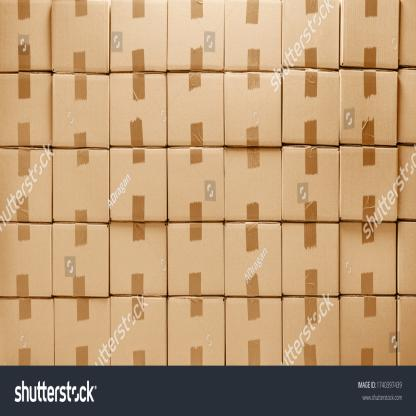box: (340, 68, 398, 145), (53, 146, 110, 224), (52, 222, 110, 298), (282, 146, 340, 222), (52, 73, 109, 149), (341, 146, 398, 222), (340, 220, 397, 296), (109, 0, 167, 74), (168, 222, 226, 296), (52, 0, 110, 73), (168, 146, 226, 219), (224, 73, 282, 146), (110, 147, 167, 221), (225, 146, 282, 220), (282, 71, 339, 145), (282, 222, 338, 297), (226, 223, 283, 296), (110, 221, 166, 295), (168, 73, 224, 147), (110, 74, 167, 146), (167, 296, 226, 365), (340, 295, 397, 366), (168, 0, 224, 72), (225, 0, 281, 72), (282, 297, 339, 367), (54, 295, 110, 366), (341, 2, 399, 70), (282, 1, 339, 70), (0, 148, 52, 223), (0, 222, 52, 297), (109, 297, 167, 364), (226, 297, 283, 364), (1, 72, 52, 146), (0, 298, 55, 366), (0, 0, 51, 71)
